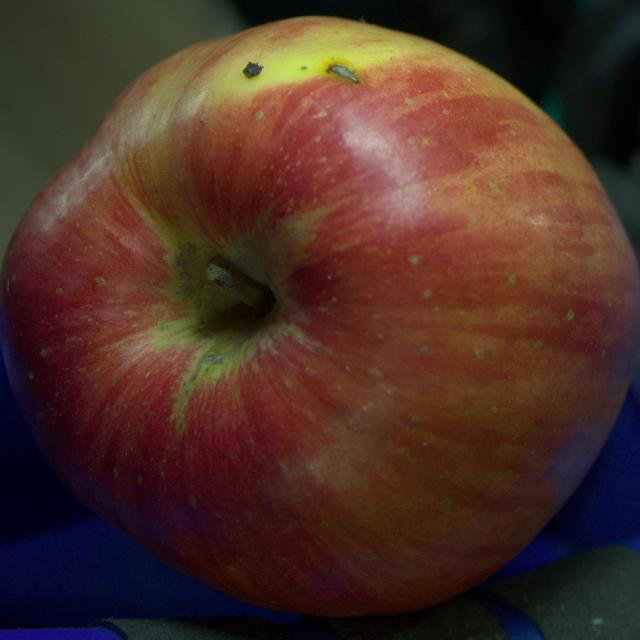apple: (0, 17, 639, 616)
pest: (243, 62, 262, 78)
scratch: (329, 64, 359, 82)
